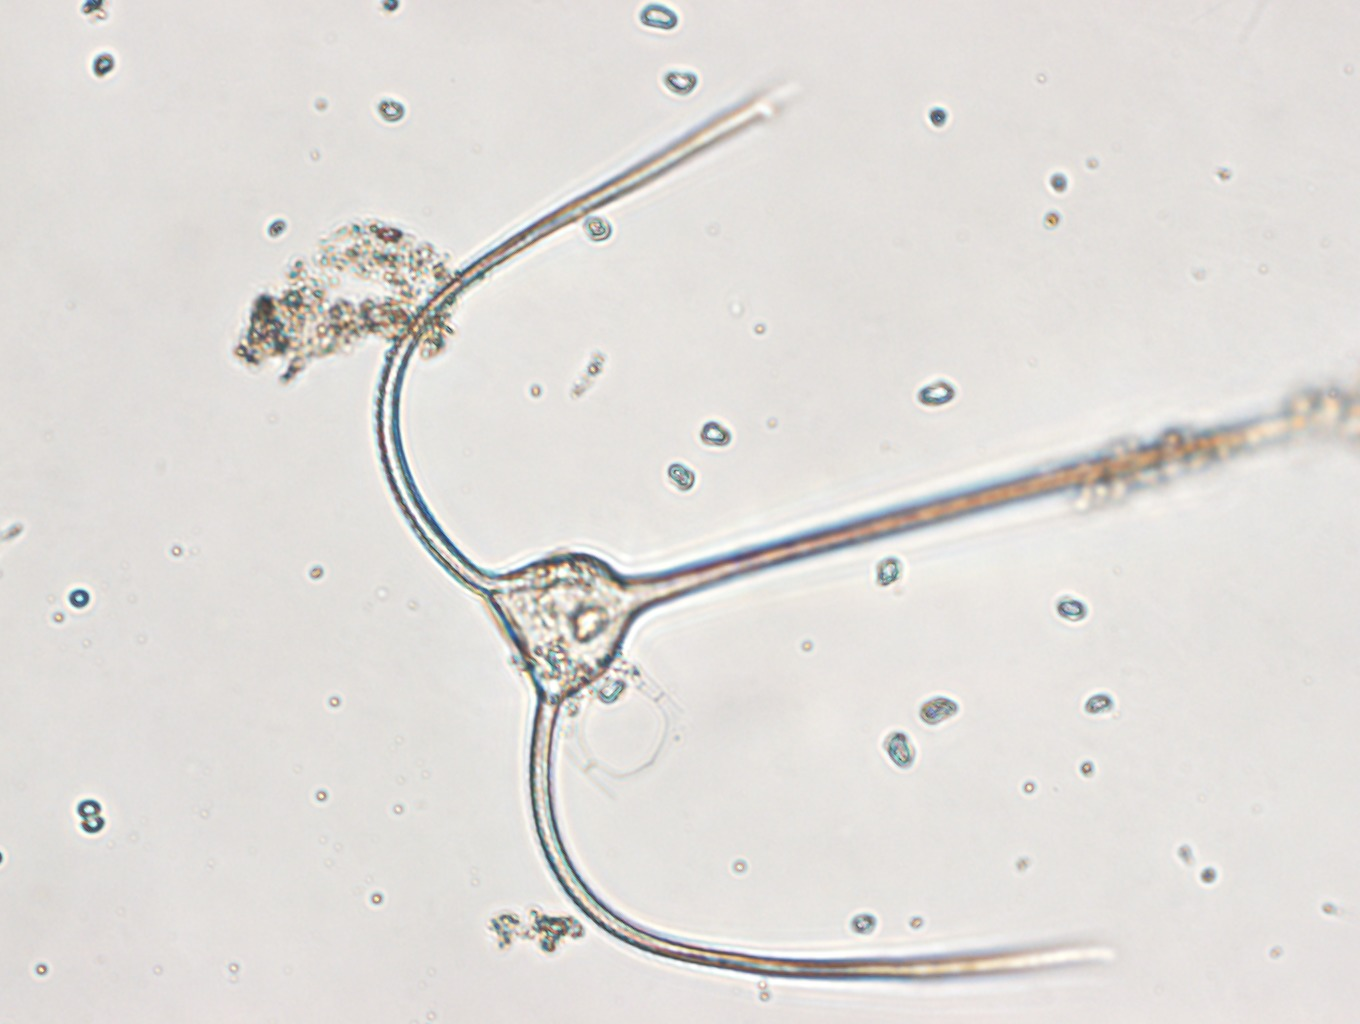ceratium trichoceros: (376, 86, 1352, 982)
